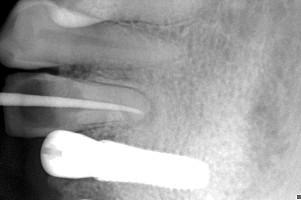Furcation Involvement: (122, 96, 160, 130)
